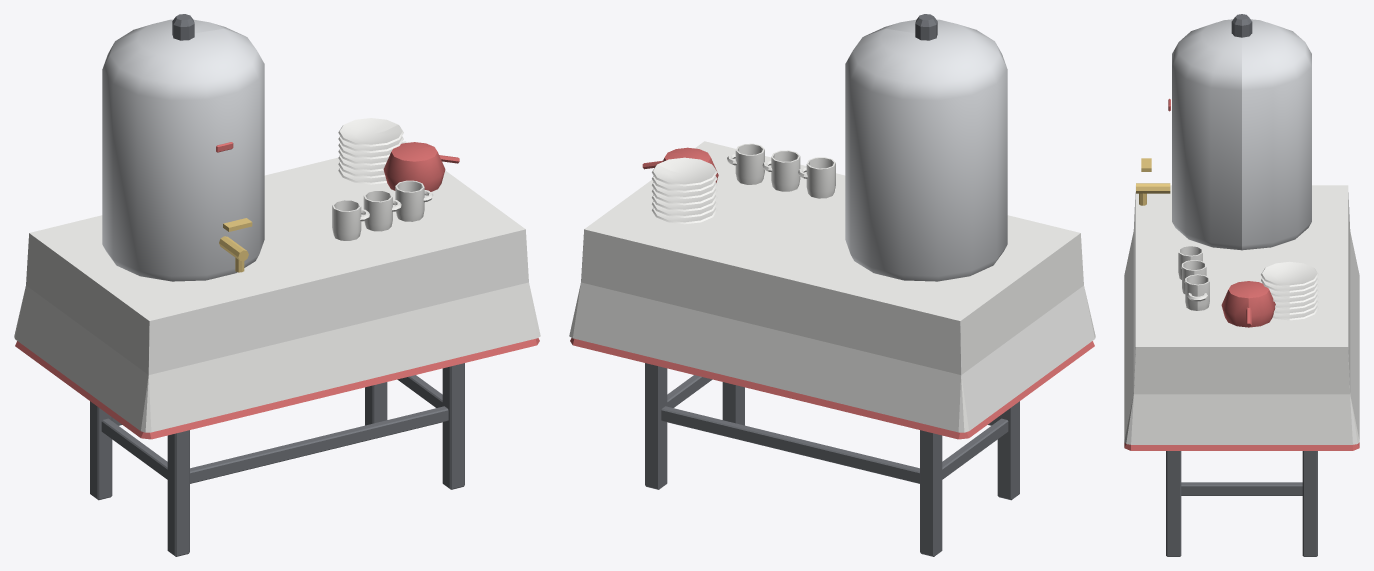
3 renders of one model, left to right at view 1: azimuth 30°, elevation 25°; view 2: azimuth 150°, elevation 25°; view 3: azimuth 270°, elevation 25°, orthographic. The views are drawn at different scales.
Visible parts, largest first — view 1: tea-urn-table; view 2: tea-urn-table; view 3: tea-urn-table.
Part boxes in pixels (x1,y1,x2,y2): tea-urn-table: [14, 14, 540, 556]; tea-urn-table: [569, 14, 1095, 556]; tea-urn-table: [1124, 14, 1359, 556].
Bounding box in the file's own units: 1.19 × 1.41 × 0.69.
